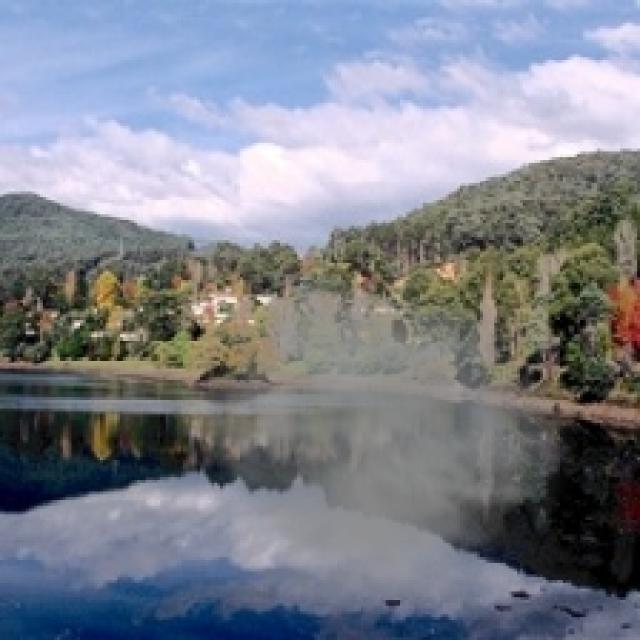Smoke: (174, 274, 589, 634)
